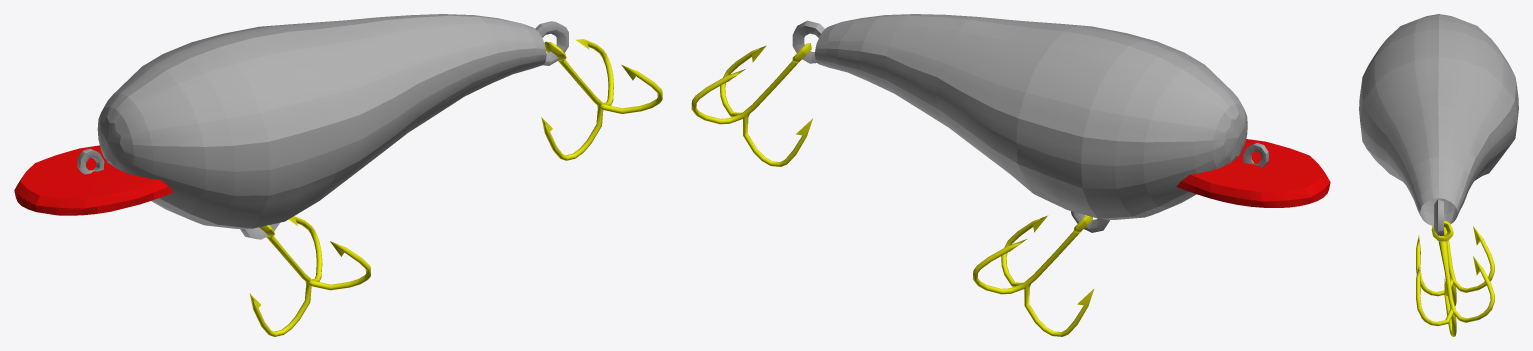
The model's file is ScrankOBJ.fbx.
3 renders of one model, left to right at view 1: azimuth 30°, elevation 25°; view 2: azimuth 150°, elevation 25°; view 3: azimuth 270°, elevation 25°, orthographic. The views are drawn at different scales.
Parts seen in each view (by area): view 1: polySurface445; view 2: polySurface445; view 3: polySurface445.
Boxes of the visible parts, x1=… form: polySurface445: x1=14, y1=14, x2=662, y2=336; polySurface445: x1=691, y1=14, x2=1330, y2=336; polySurface445: x1=1359, y1=14, x2=1518, y2=336.
Bounding box in the file's own units: 1.23 × 0.5798 × 0.3345.
